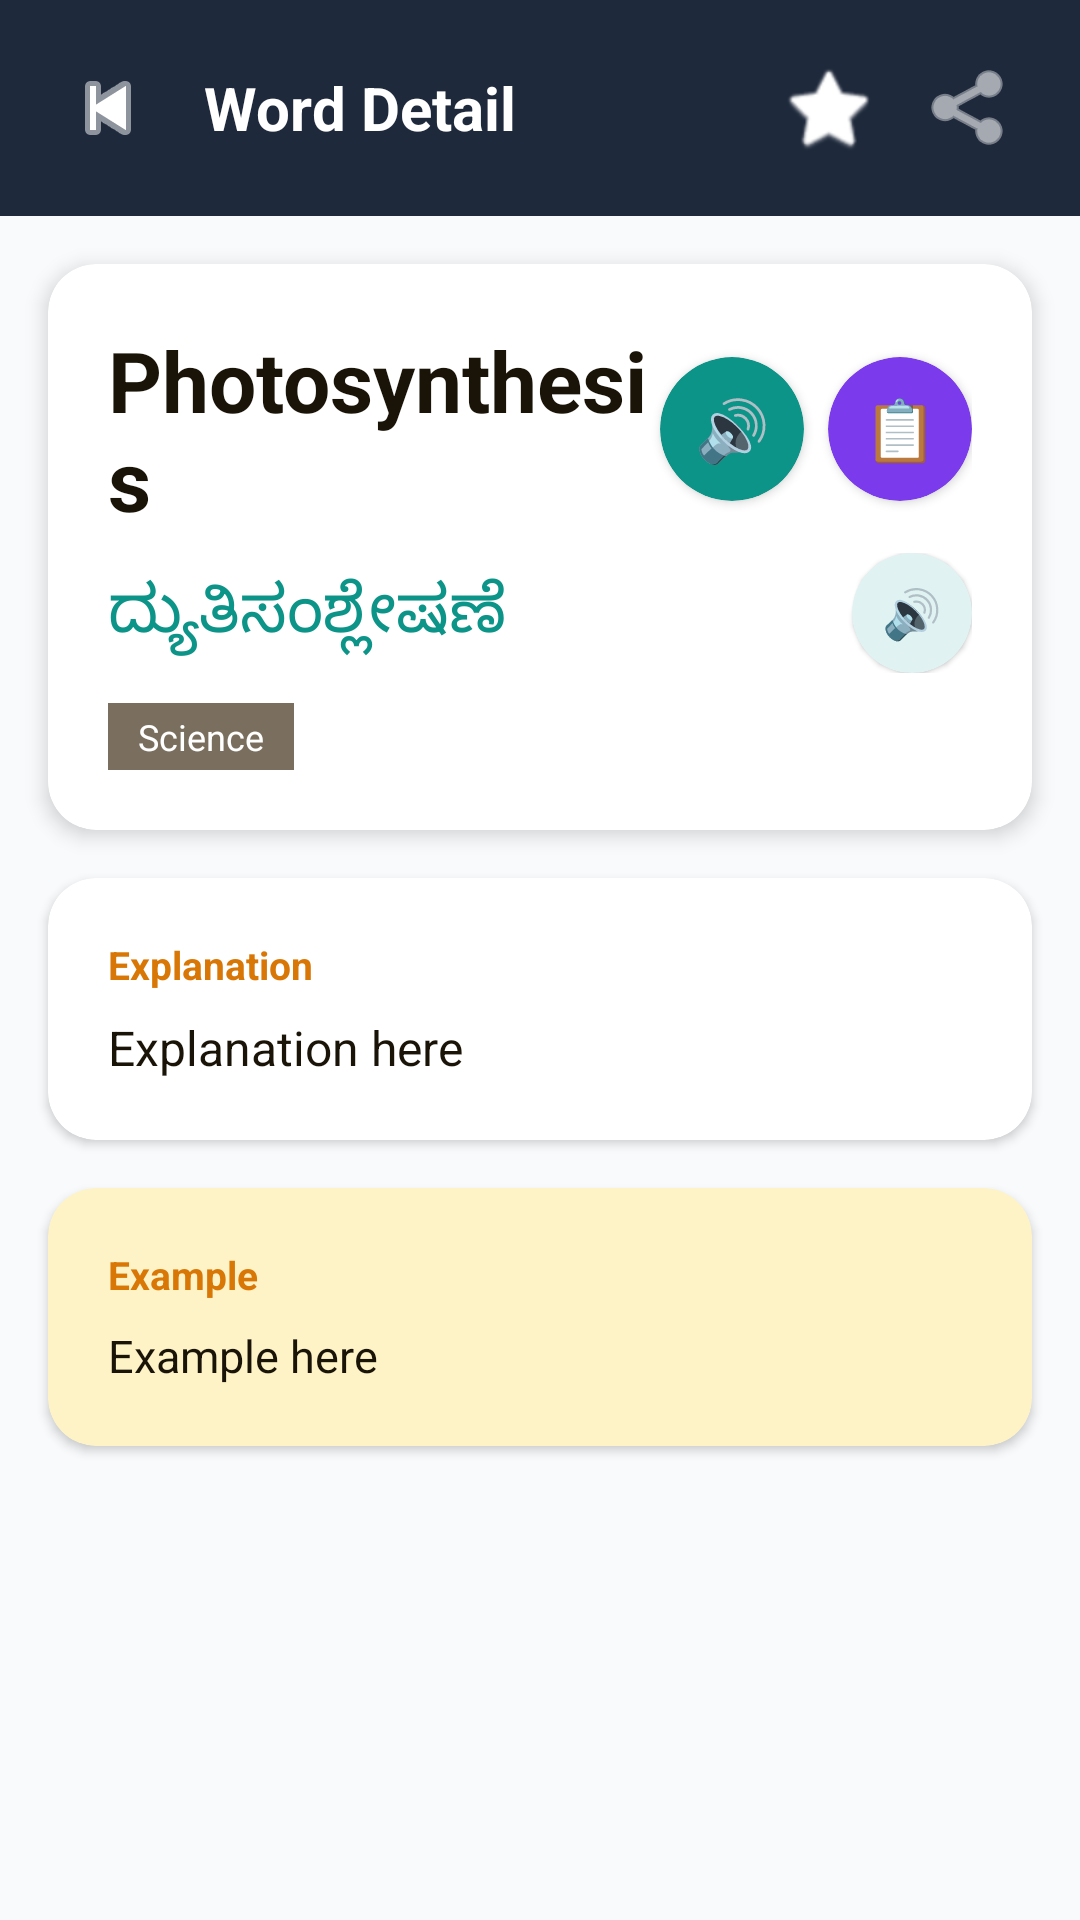

Named icons in this screenshot (1080px x 1920px) and their centers, point (x, y):
Back: point (108, 108)
Bookmark: point (829, 109)
Share: point (967, 107)
